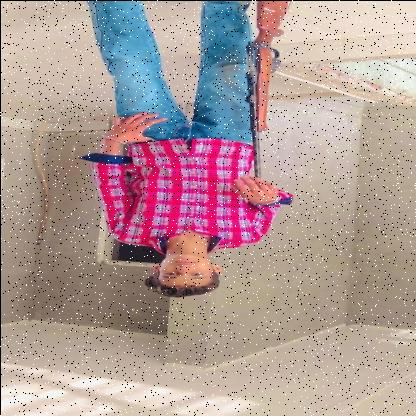rifle: (236, 1, 288, 195)
